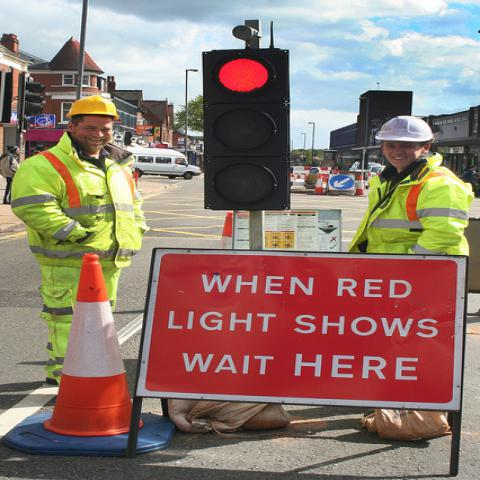truck: (125, 146, 203, 180)
